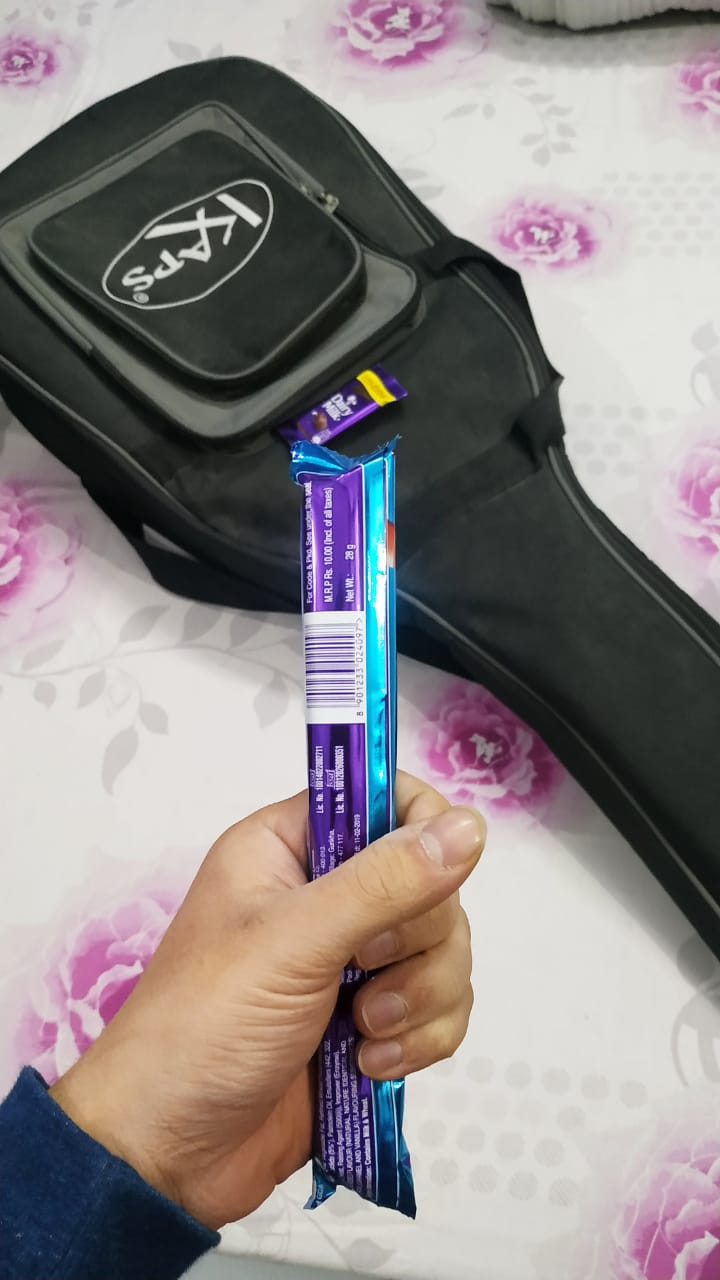perk: (266, 414, 431, 1210)
